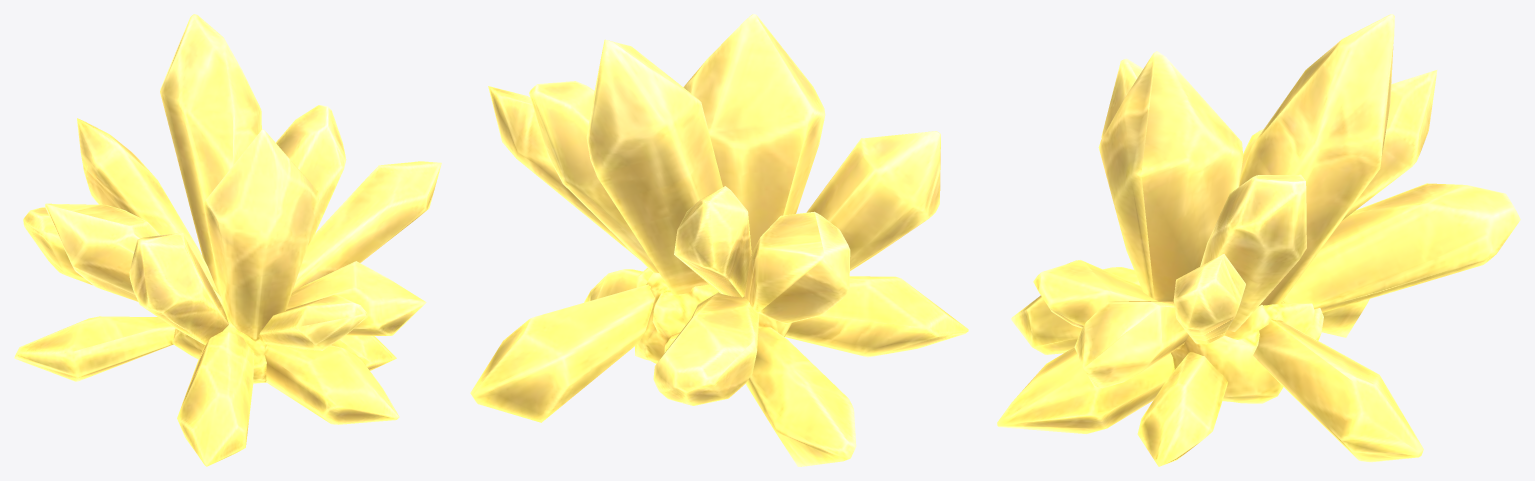
The model's file is crystal_citrinecluster_a_lite.glb.
3 renders of one model, left to right at view 1: azimuth 30°, elevation 25°; view 2: azimuth 150°, elevation 25°; view 3: azimuth 270°, elevation 25°, orthographic. The views are drawn at different scales.
Visible parts, largest first — view 1: SM_CRST_DRS_CitrineCluster_01A; view 2: SM_CRST_DRS_CitrineCluster_01A; view 3: SM_CRST_DRS_CitrineCluster_01A.
Boxes of the visible parts, x1,y1,x2,y2 form: SM_CRST_DRS_CitrineCluster_01A: (14,14,441,466); SM_CRST_DRS_CitrineCluster_01A: (470,14,968,466); SM_CRST_DRS_CitrineCluster_01A: (997,14,1520,466).
Size of the model in its own units: 1.36 by 1.17 by 1.36.
Materials: 1 (1 with a texture image).
